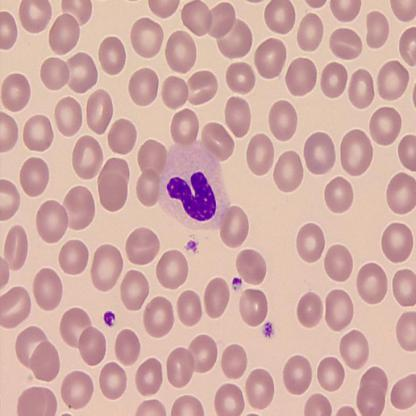Band Neutrophil: (156, 140, 232, 232)
